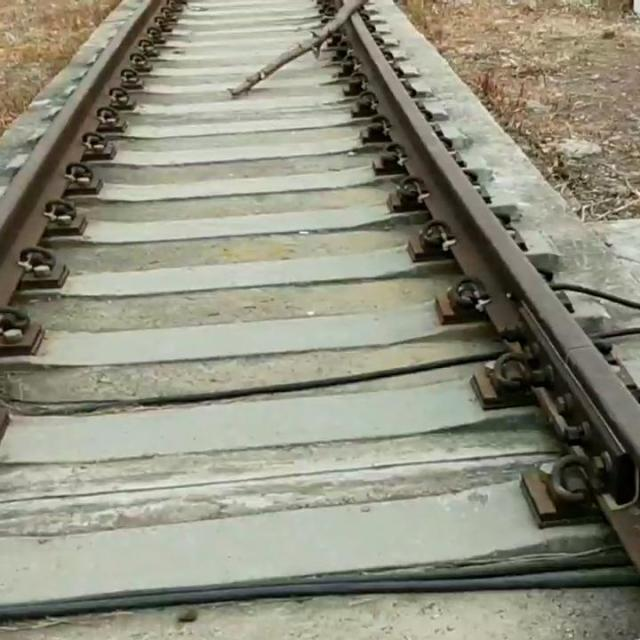danger: (212, 0, 385, 115)
rail: (299, 0, 639, 640), (1, 0, 196, 458)
